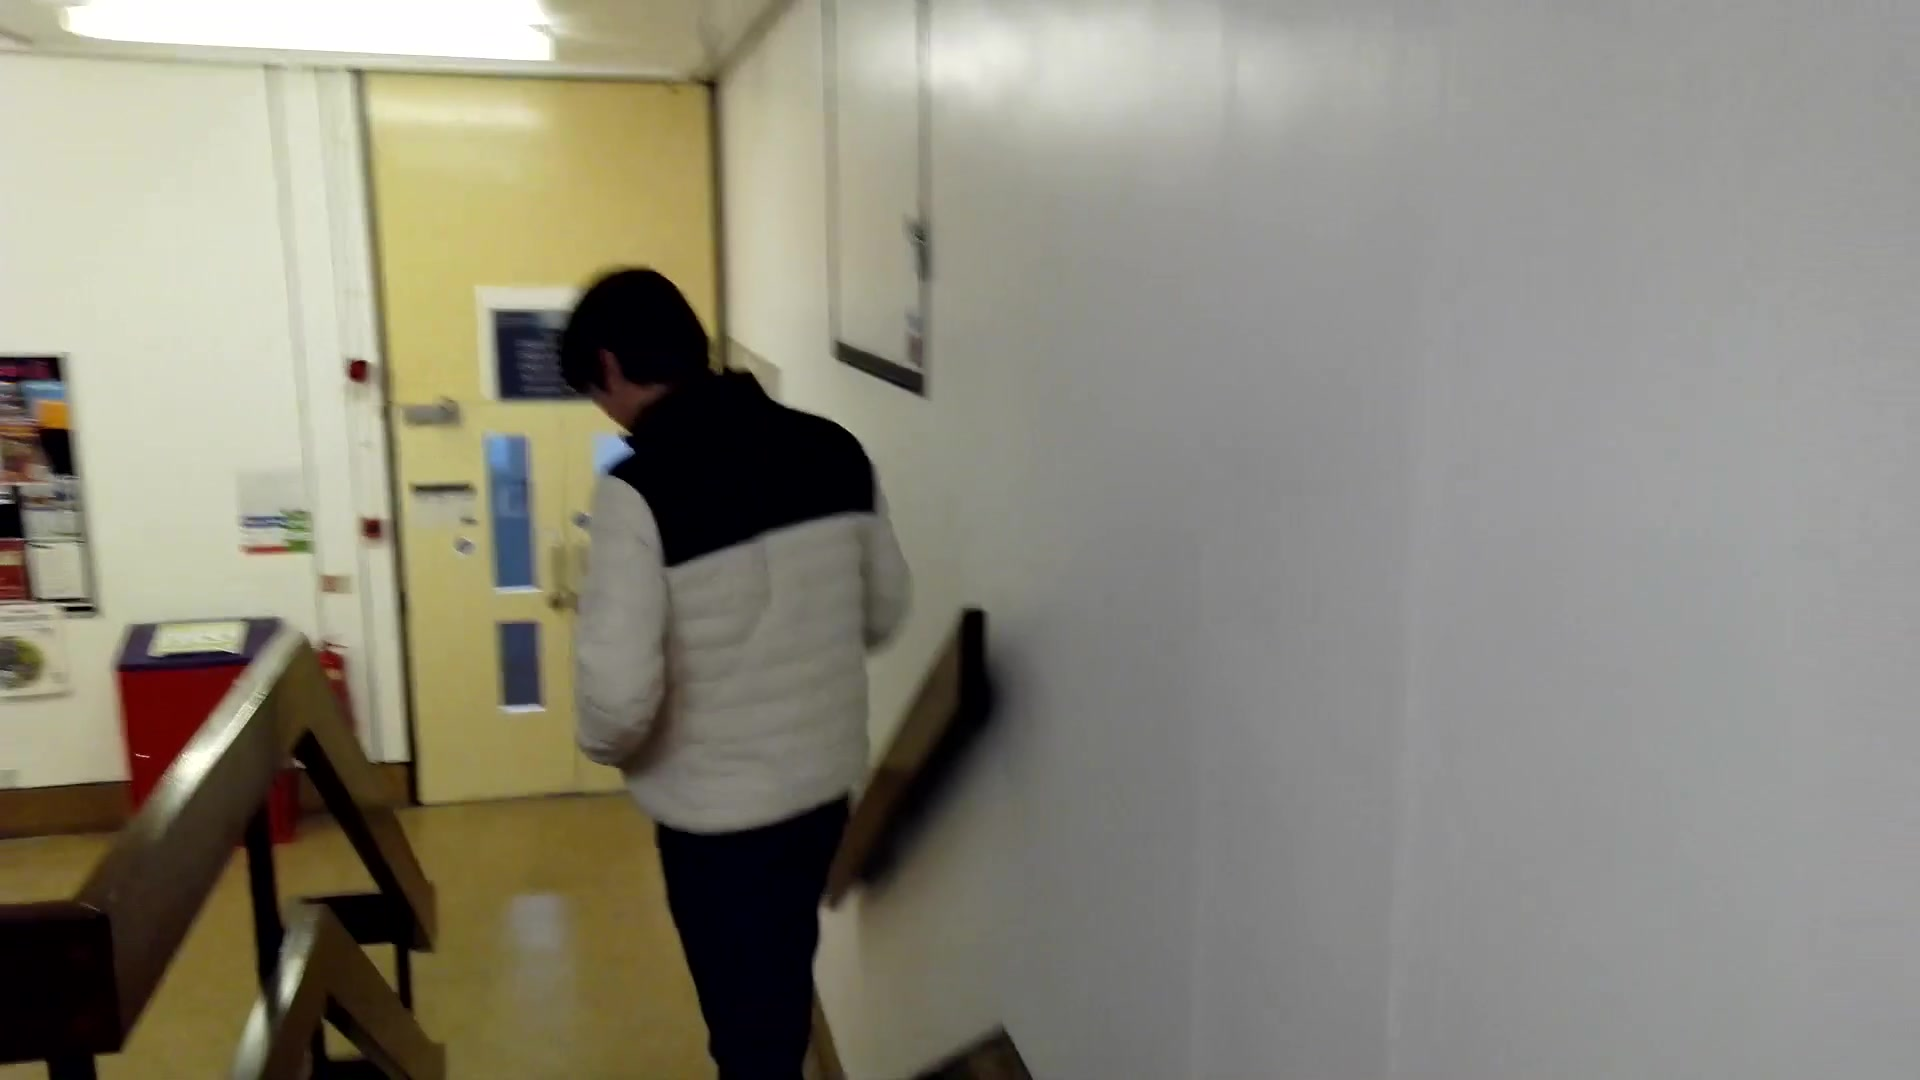Door: (381, 398, 586, 846)
Person: (549, 259, 920, 1080)
